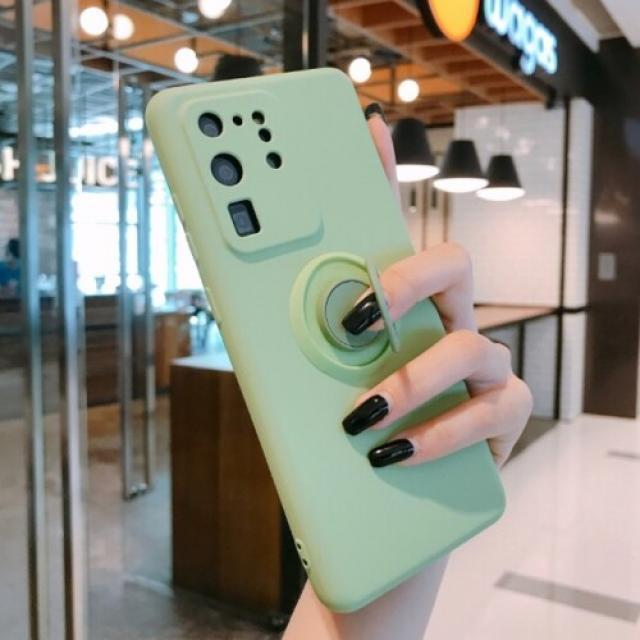lens: (197, 105, 294, 240)
phone: (145, 61, 507, 612)
